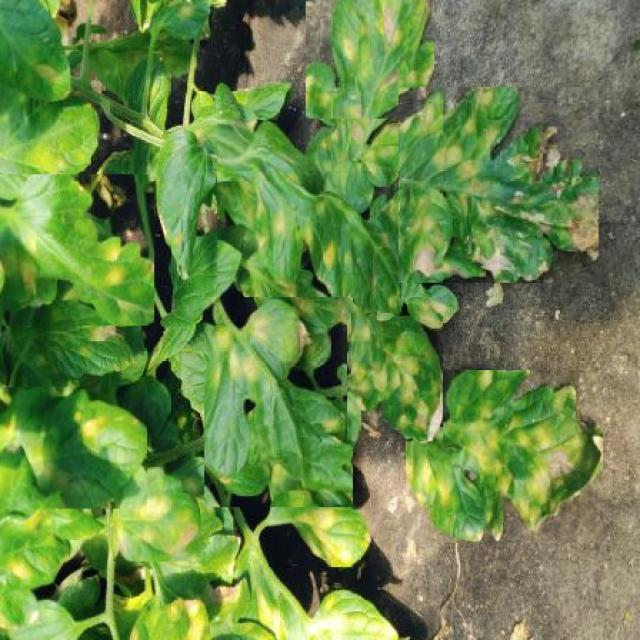Leaf Mold: (398, 87, 598, 283), (217, 118, 402, 323), (406, 370, 603, 543), (205, 297, 354, 507), (305, 0, 434, 184), (0, 174, 154, 325), (0, 387, 147, 509), (347, 313, 443, 441), (269, 467, 371, 567), (114, 460, 199, 561)
